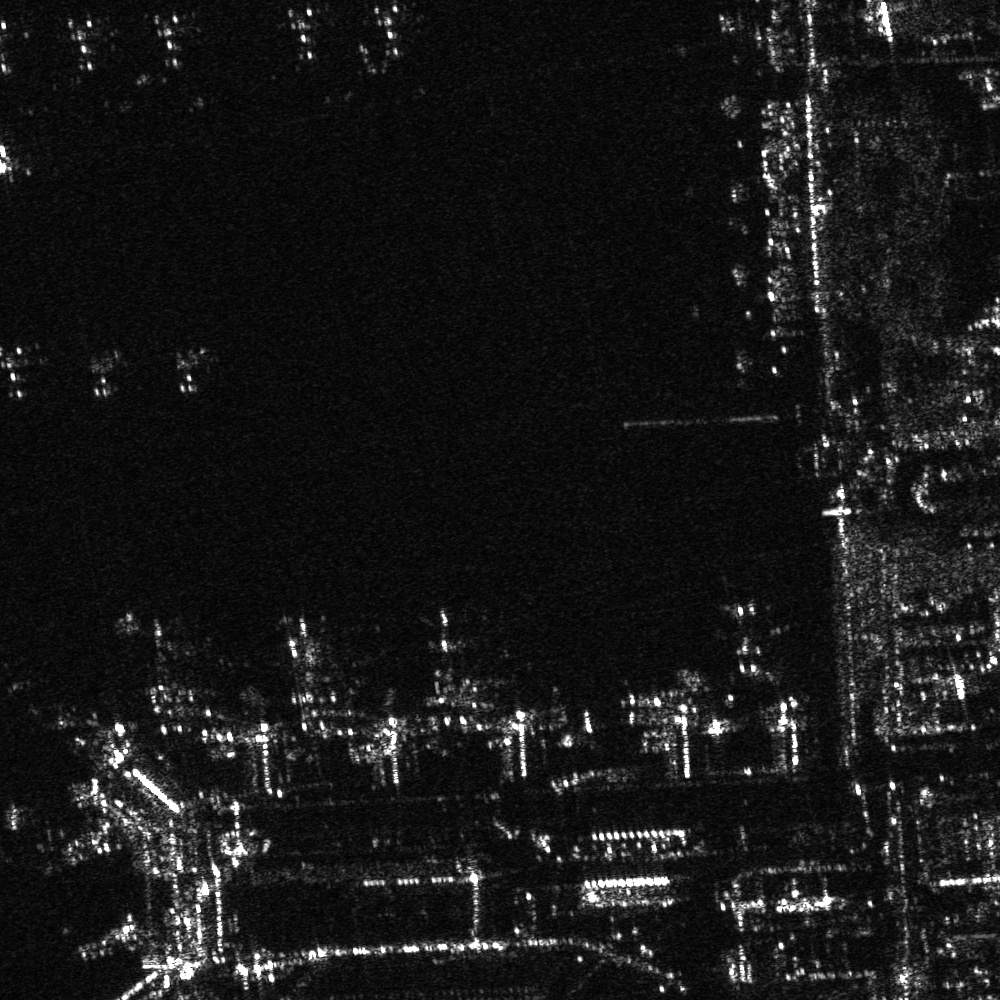A220: (696, 598, 792, 687), (84, 347, 134, 401)
A320/321: (169, 344, 216, 399)
ARJ21: (1, 342, 49, 401)
Boeing787: (408, 603, 487, 716)
other: (268, 612, 348, 738), (118, 611, 199, 711), (47, 5, 129, 83), (137, 5, 216, 80), (1, 8, 36, 79)
